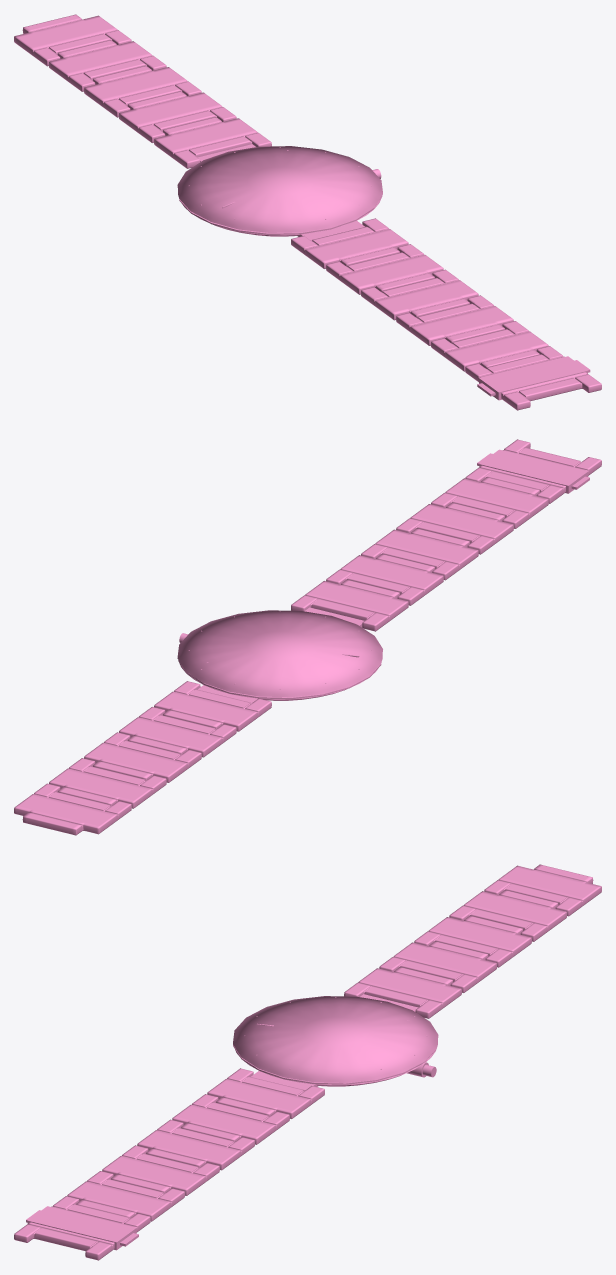
The model's file is watch.fbx.
3 renders of one model, top to bottom at view 1: azimuth 30°, elevation 25°; view 2: azimuth 150°, elevation 25°; view 3: azimuth 330°, elevation 25°, orthographic.
Parts seen in each view (by area): view 1: pCylinder1, polySurface26, polySurface23, polySurface25, polySurface12, polySurface15, polySurface22, polySurface14, polySurface24, polySurface16, polySurface17, pCube16 (+3 smaller); view 2: pCylinder1, polySurface22, polySurface12, polySurface16, polySurface26, polySurface24, polySurface14, polySurface25, polySurface15, polySurface23, polySurface17, pCube16 (+3 smaller); view 3: pCylinder1, polySurface26, polySurface23, polySurface25, polySurface12, polySurface15, polySurface22, polySurface14, polySurface24, polySurface16, polySurface17, pCube16 (+3 smaller).
Boxes of the visible parts, bbox=[...] form: pCylinder1: bbox=[177, 146, 382, 232]; polySurface26: bbox=[154, 117, 271, 168]; polySurface23: bbox=[49, 40, 166, 91]; polySurface25: bbox=[119, 91, 236, 142]; polySurface12: bbox=[291, 218, 408, 268]; polySurface15: bbox=[361, 269, 478, 320]; polySurface22: bbox=[14, 14, 131, 66]; polySurface14: bbox=[326, 244, 443, 294]; polySurface24: bbox=[84, 65, 201, 117]; polySurface16: bbox=[396, 295, 513, 345]; polySurface17: bbox=[431, 321, 548, 371]; pCube16: bbox=[479, 356, 587, 400]; pCylinder1: bbox=[177, 610, 382, 697]; polySurface22: bbox=[14, 783, 131, 835]; polySurface12: bbox=[291, 579, 408, 631]; polySurface16: bbox=[396, 502, 513, 554]; polySurface26: bbox=[154, 681, 271, 731]; polySurface24: bbox=[84, 732, 201, 782]; polySurface14: bbox=[326, 554, 443, 605]; polySurface25: bbox=[119, 707, 236, 757]; polySurface15: bbox=[361, 528, 478, 580]; polySurface23: bbox=[49, 758, 166, 808]; polySurface17: bbox=[431, 477, 548, 528]; pCube16: bbox=[479, 449, 588, 493]; pCylinder1: bbox=[233, 996, 438, 1082]; polySurface26: bbox=[344, 967, 461, 1018]; polySurface23: bbox=[449, 890, 566, 941]; polySurface25: bbox=[379, 941, 496, 992]; polySurface12: bbox=[207, 1068, 324, 1118]; polySurface15: bbox=[137, 1119, 254, 1170]; polySurface22: bbox=[484, 864, 601, 916]; polySurface14: bbox=[172, 1094, 289, 1144]; polySurface24: bbox=[414, 915, 531, 967]; polySurface16: bbox=[102, 1145, 219, 1195]; polySurface17: bbox=[67, 1171, 184, 1221]; pCube16: bbox=[27, 1206, 136, 1250].
Size of the model in its own units: 2.08 by 0.279 by 9.78.
